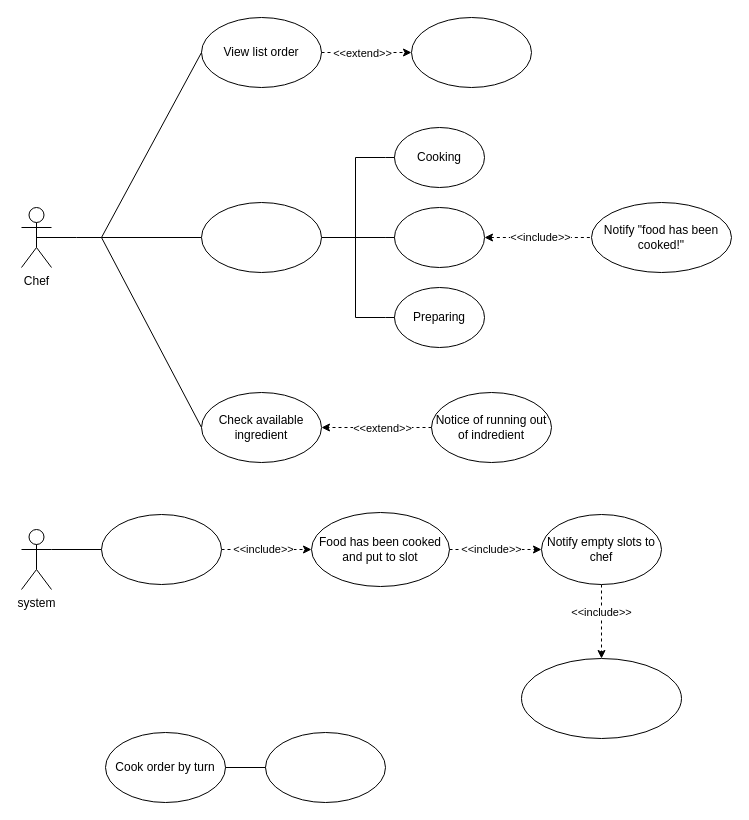
The diagram is 749 pixels wide and 820 high, and some of its shapes have lost their labels. Each missing label, with the centre of its shape:
Asign name and put food to slot: the point at 325,767
Completed: the point at 439,237
Notify status food: the point at 261,237
Notìy to custommer: the point at 161,549
Received notice "food has been cooked!" from chef: the point at 601,698
Update list order: the point at 471,52
